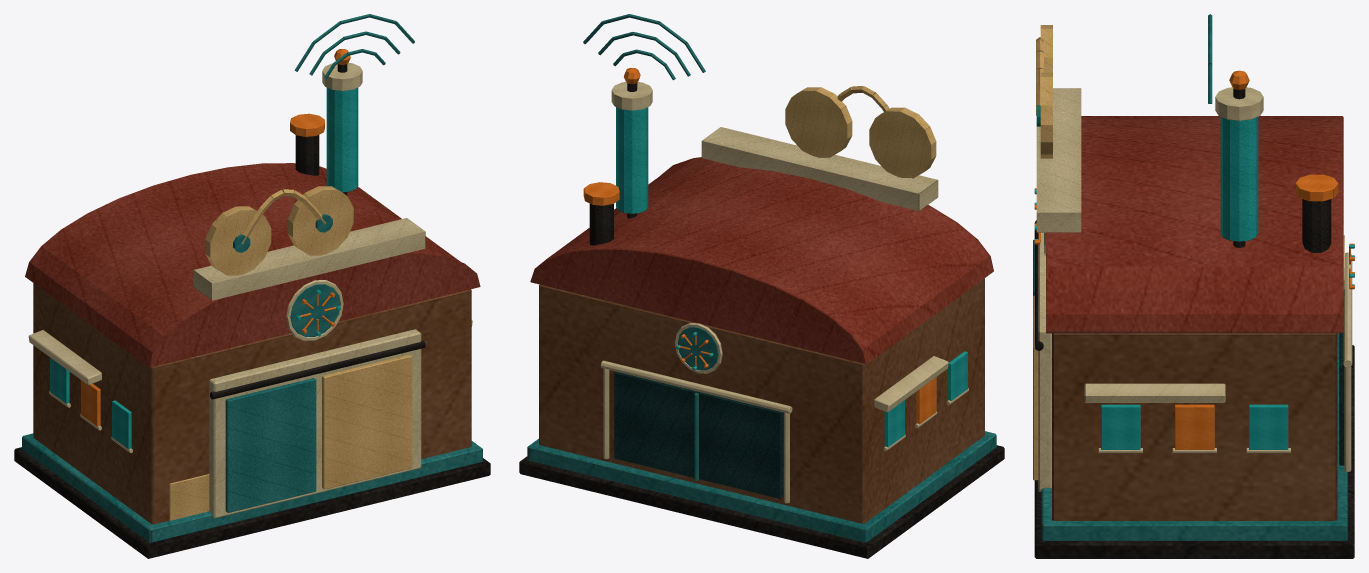
The model's file is catalog-warehouse.e7.glb.
3 renders of one model, left to right at view 1: azimuth 30°, elevation 25°; view 2: azimuth 150°, elevation 25°; view 3: azimuth 270°, elevation 25°, orthographic. The views are drawn at different scales.
Parts seen in each view (by area): view 1: TapePostE7; view 2: TapePostE7; view 3: TapePostE7.
Boxes of the visible parts, <box> form: TapePostE7: <box>14,14,490,558</box>; TapePostE7: <box>519,14,1004,558</box>; TapePostE7: <box>1033,14,1354,558</box>.
Bounding box in the file's own units: 5.59 × 6.42 × 3.74.
1 material, 1 textured.
